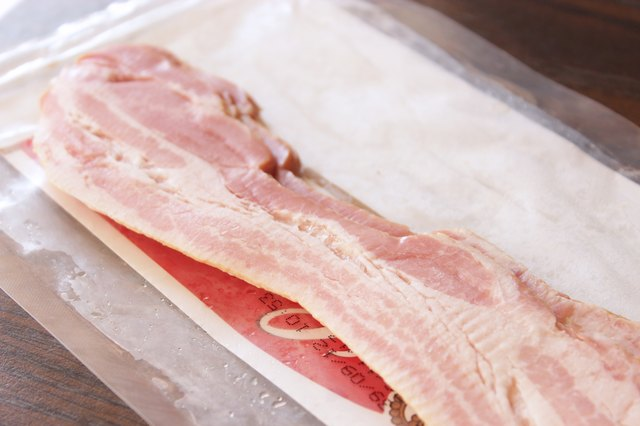bacon: (17, 38, 624, 422)
